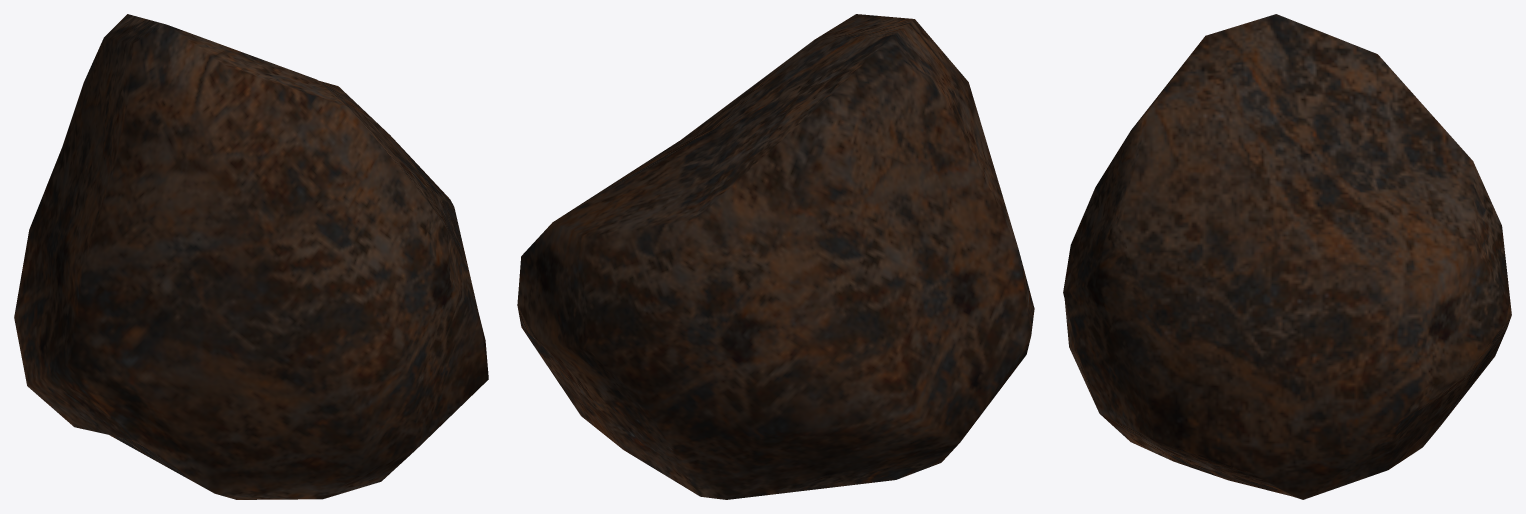
Rendered from sb_obj_nature007_Rock05c.fbx.
The picture shows the model from 3 angles, left to right: view 1: azimuth 30°, elevation 25°; view 2: azimuth 150°, elevation 25°; view 3: azimuth 270°, elevation 25°; orthographic projection. The views are drawn at different scales.
Parts seen in each view (by area): view 1: sb_obj_nature007_Rock05c; view 2: sb_obj_nature007_Rock05c; view 3: sb_obj_nature007_Rock05c.
Boxes of the visible parts, bbox=[...] form: sb_obj_nature007_Rock05c: bbox=[14, 14, 488, 499]; sb_obj_nature007_Rock05c: bbox=[517, 14, 1034, 499]; sb_obj_nature007_Rock05c: bbox=[1063, 14, 1511, 499].
Size of the model in its own units: 1.08 by 1.07 by 1.13.
